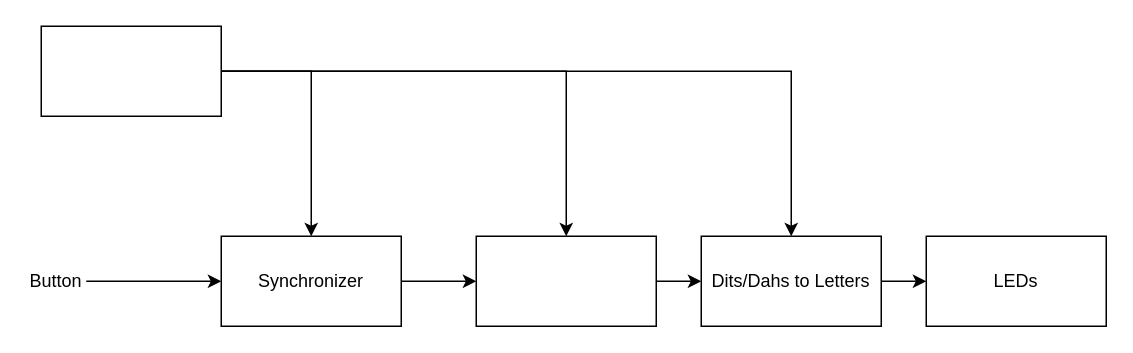
Some shapes in this 1133 by 353 pixel diagram are drawn without their labels. The shapes that lost their labels are listed below. From the top down, each one's centre as x and y in pixels, then its label:
At (130,70): "Clock".
At (565,280): "Signal to Dits/Dahs".
